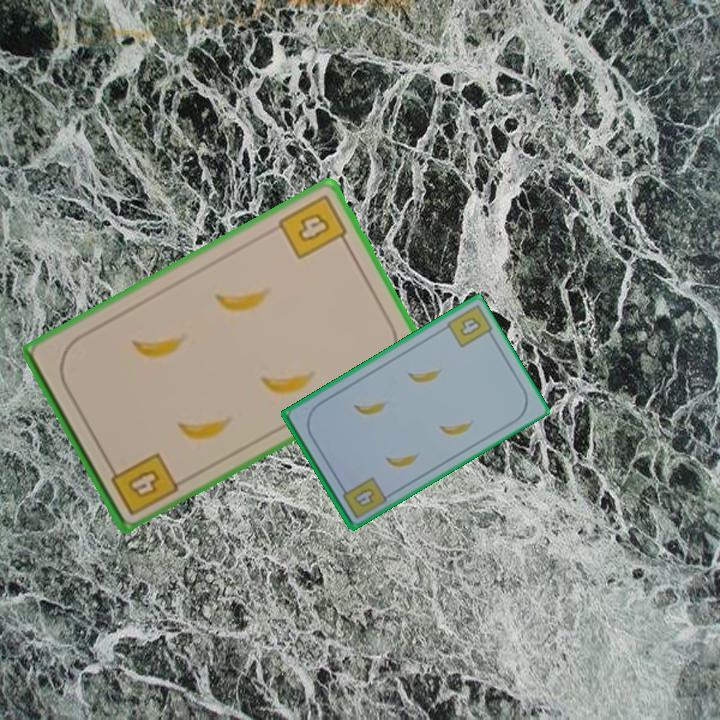4b: (274, 190, 353, 262), (104, 448, 181, 518), (336, 473, 388, 521), (456, 313, 484, 339)
